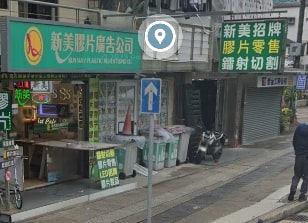One Way Traffic: (140, 79, 162, 114)
